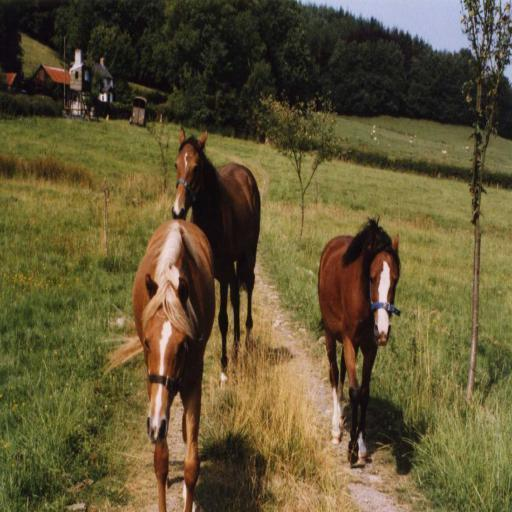horse: (102, 216, 217, 512), (170, 126, 260, 388), (316, 214, 402, 462)
